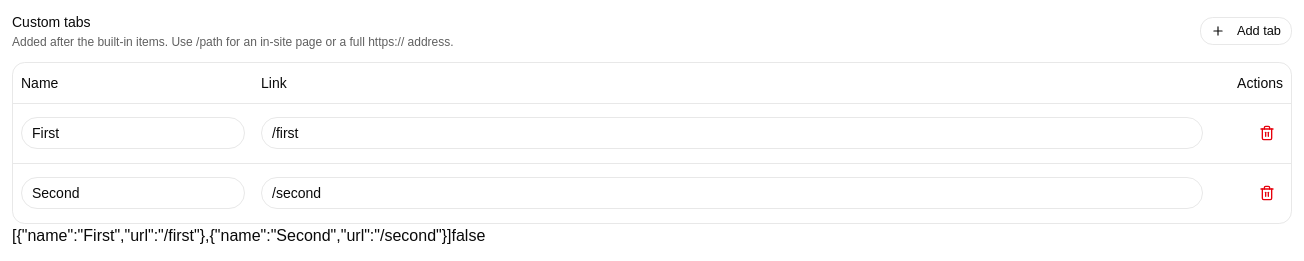
Test: header nav custom links editor › removes only the targeted row
Header row plus the two data rows.
Step 1. Click the 1st button named "Delete" → click(1267, 133), box x1=1251 y1=117 x2=1283 y2=149
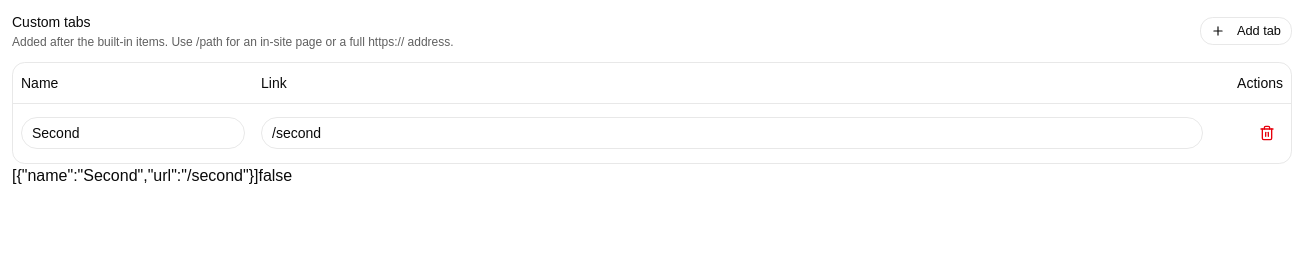
Result: the text with test id "serialized" reads "[{\"name\":\"Second\",\"url\":\"/second\"}]" at x1=12 y1=167 x2=258 y2=184
